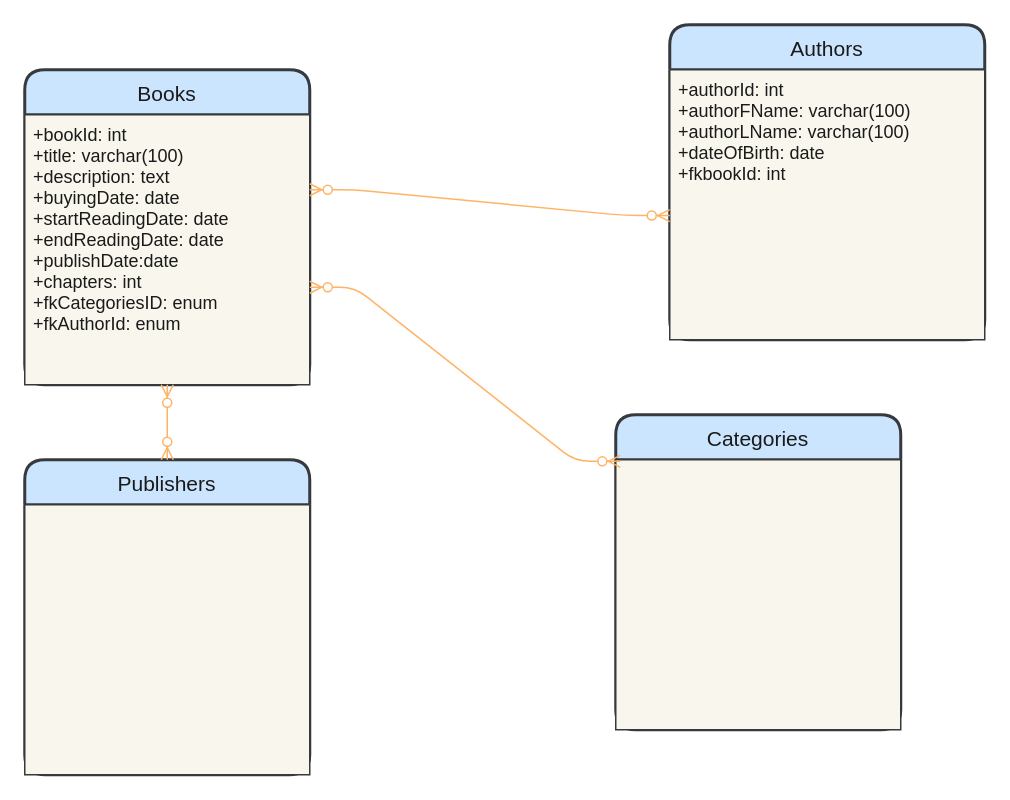
The diagram is 1010 pixels wide and 800 high, and some of its shapes have lost their labels. The shapes that lost their labels are listed below. From the top down, each one's centre as x and y in pixels, then its label:
point 757,594: +categoryId: int +categoryName: varchar(100)
point 166,639: +publisherId: int +publisherName: varchar(100)
